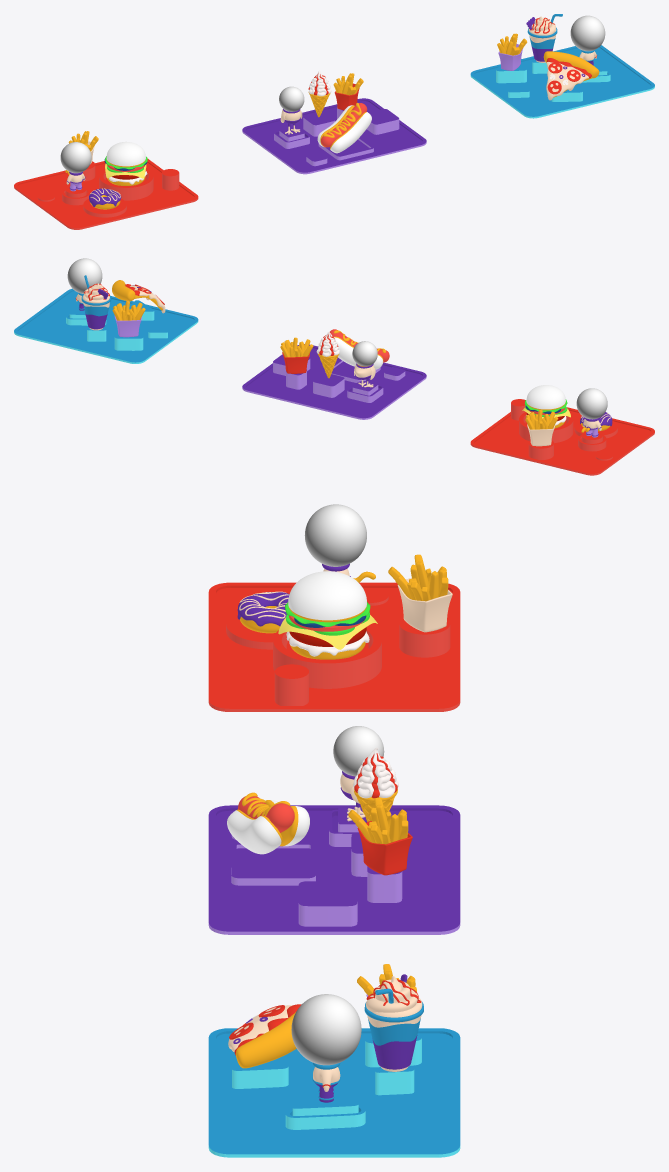
File: slider_model.glb
The picture shows the model from 3 angles, top to bottom: view 1: azimuth 30°, elevation 25°; view 2: azimuth 150°, elevation 25°; view 3: azimuth 270°, elevation 25°; orthographic projection. The views are drawn at different scales.
Visible parts, largest first — view 1: Pizza_Grand, Grand, Grand_Hot_Dog, Koala_Helmet, Plat_2, Burger_Bun_Sesame, Cat_Helmet, Hot_Dog_Buns_Sesame, Plane_5, Pizza.001, Plane_0, Pizza_Cheese (+17 smaller); view 2: Pizza_Grand, Grand, Grand_Hot_Dog, Koala_Helmet, Burger_Bun_Sesame, Cat_Helmet, Coffee_Cup, Plane_3, Plat_2, Plane_0, Chick_Helmet, French_Fries_Potato.002 (+14 smaller); view 3: Pizza_Grand, Grand_Hot_Dog, Grand, Koala_Helmet, Plat_2, Plane_1, Burger_Bun_Sesame, Cat_Helmet, Plane_5, Pizza_Triangulate_1, Coffee_Cup, Hot_Dog_Buns_Sesame (+16 smaller).
Part boxes in pixels (x1,y1,x2,y2): Pizza_Grand: (470,45,654,118); Grand: (14,158,198,229); Grand_Hot_Dog: (242,98,426,174); Koala_Helmet: (570,15,605,51); Plat_2: (99,168,153,200); Burger_Bun_Sesame: (106,141,145,166); Cat_Helmet: (60,142,91,173); Hot_Dog_Buns_Sesame: (317,105,371,153); Plane_5: (367,109,399,134); Pizza.001: (543,51,599,97); Plane_0: (274,126,309,148); Pizza_Cheese: (546,62,588,100); Pizza_Grand: (14,288,198,363); Grand: (470,407,654,475); Grand_Hot_Dog: (242,344,426,419); Koala_Helmet: (67,258,102,293); Burger_Bun_Sesame: (526,385,565,409); Cat_Helmet: (576,388,607,419); Coffee_Cup: (81,294,111,330); Plane_3: (313,373,344,397); Plat_2: (519,412,573,443); Plane_0: (347,381,383,402); Chick_Helmet: (352,341,377,366); French_Fries_Potato.002: (280,337,313,357); Pizza_Grand: (208,1028,460,1157); Grand_Hot_Dog: (208,805,460,934); Grand: (208,582,460,711); Koala_Helmet: (291,994,361,1065); Plat_2: (273,625,381,688); Plane_1: (231,842,315,885); Burger_Bun_Sesame: (288,571,366,620); Cat_Helmet: (304,504,366,566); Plane_5: (298,881,357,926); Pizza_Triangulate_1: (285,1085,365,1129); Coffee_Cup: (364,1002,423,1071); Hot_Dog_Buns_Sesame: (227,800,309,854).
Bounding box in the file's own units: 257 × 25.14 × 47.69.
